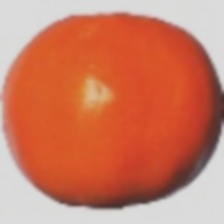tangerine: (6, 24, 206, 222)
